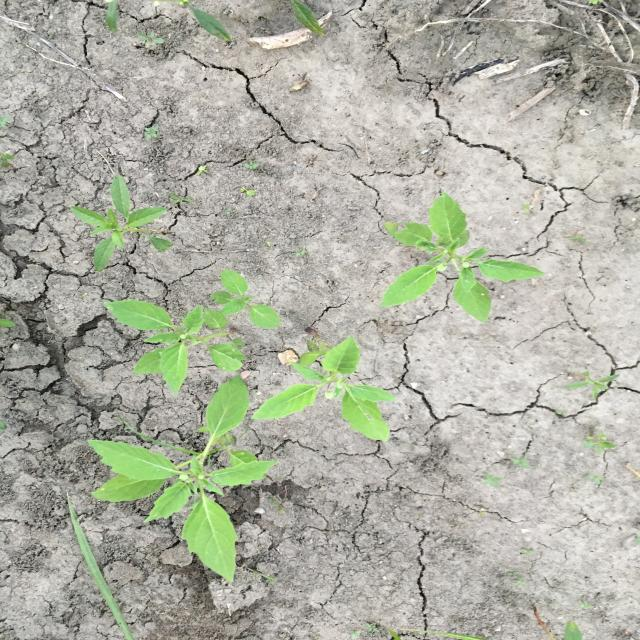CutleafGroundcherry: (86, 374, 281, 583), (377, 190, 547, 324), (247, 337, 399, 443), (103, 298, 249, 395), (210, 269, 282, 330)
Waterhemp: (68, 175, 176, 272)
